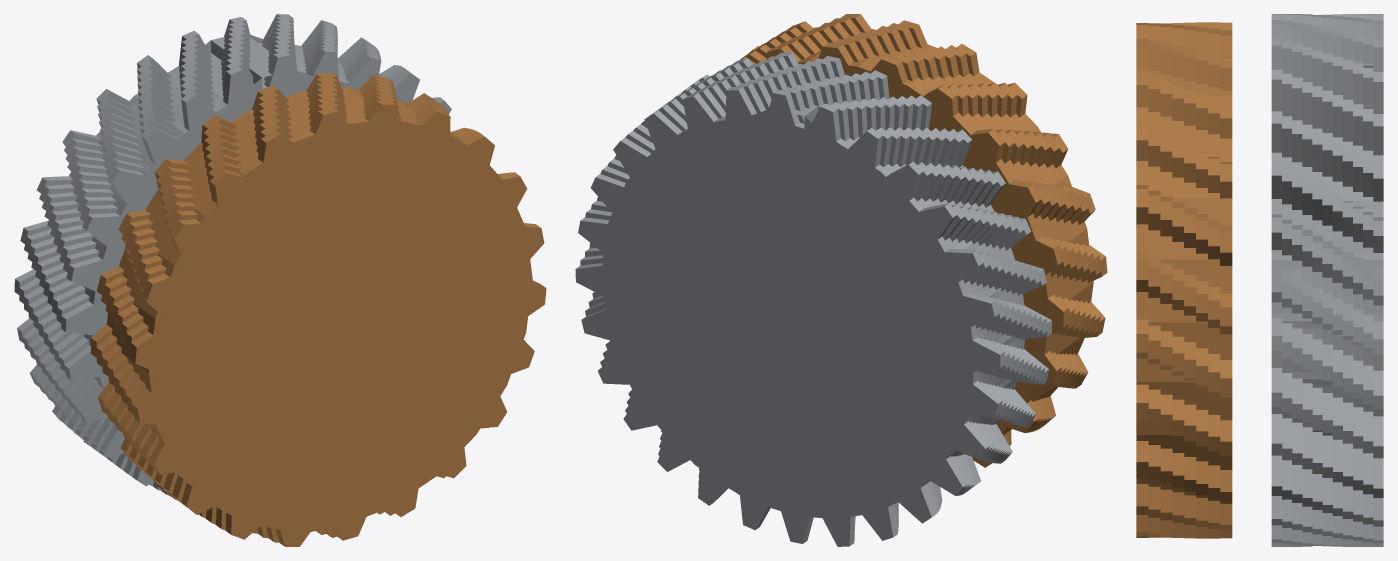
File: crank-gears.glb
3 renders of one model, left to right at view 1: azimuth 30°, elevation 25°; view 2: azimuth 150°, elevation 25°; view 3: azimuth 270°, elevation 25°, orthographic. The views are drawn at different scales.
Visible parts, largest first — view 1: crank-gears:bronze, crank-gears:steel; view 2: crank-gears:steel, crank-gears:bronze; view 3: crank-gears:steel, crank-gears:bronze.
Boxes of the visible parts, x1,y1,x2,y2 form: crank-gears:bronze: (91, 72, 546, 546); crank-gears:steel: (14, 14, 451, 499); crank-gears:steel: (575, 52, 1051, 546); crank-gears:bronze: (740, 14, 1107, 467); crank-gears:steel: (1271, 14, 1383, 546); crank-gears:bronze: (1136, 22, 1232, 538).
Bounding box in the file's own units: 66.89 × 66.89 × 31.04.
